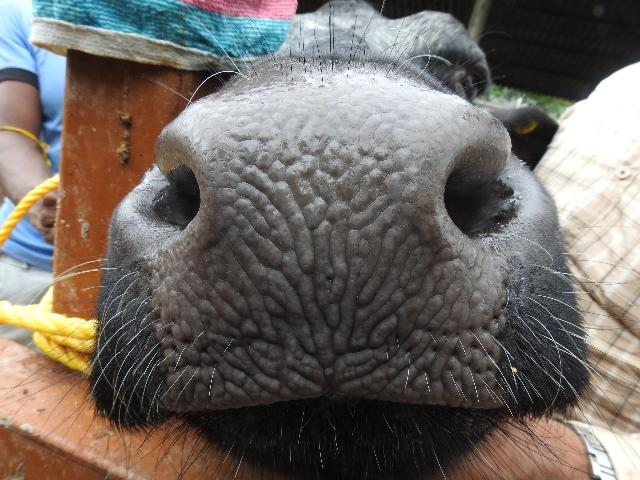Muzzle: (202, 114, 446, 407)
